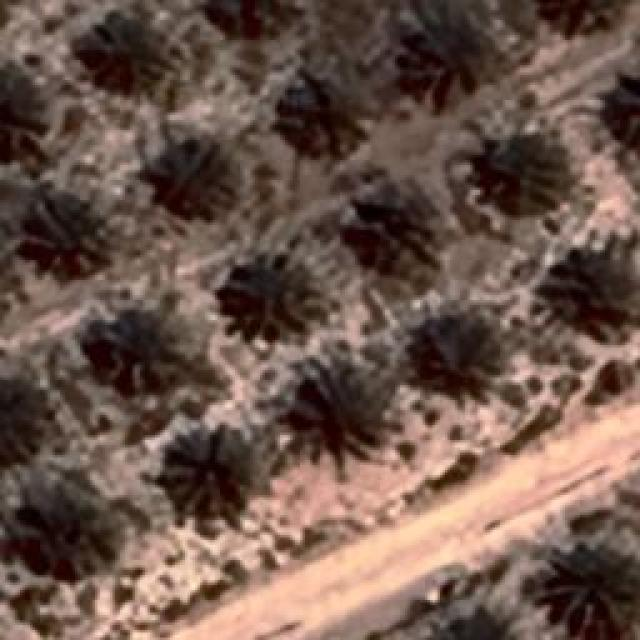PalmTree: (21, 86, 625, 114), (160, 428, 262, 530), (220, 252, 330, 346), (552, 242, 640, 348), (277, 66, 375, 156), (542, 550, 640, 640), (14, 481, 108, 571), (100, 309, 195, 389), (350, 175, 435, 260), (468, 134, 558, 214), (300, 367, 380, 455), (152, 140, 236, 218), (424, 308, 492, 398), (38, 198, 112, 278), (89, 19, 169, 92), (411, 27, 489, 95), (546, 0, 626, 48), (432, 606, 522, 640), (0, 381, 40, 451), (211, 0, 281, 40), (430, 620, 524, 640)
